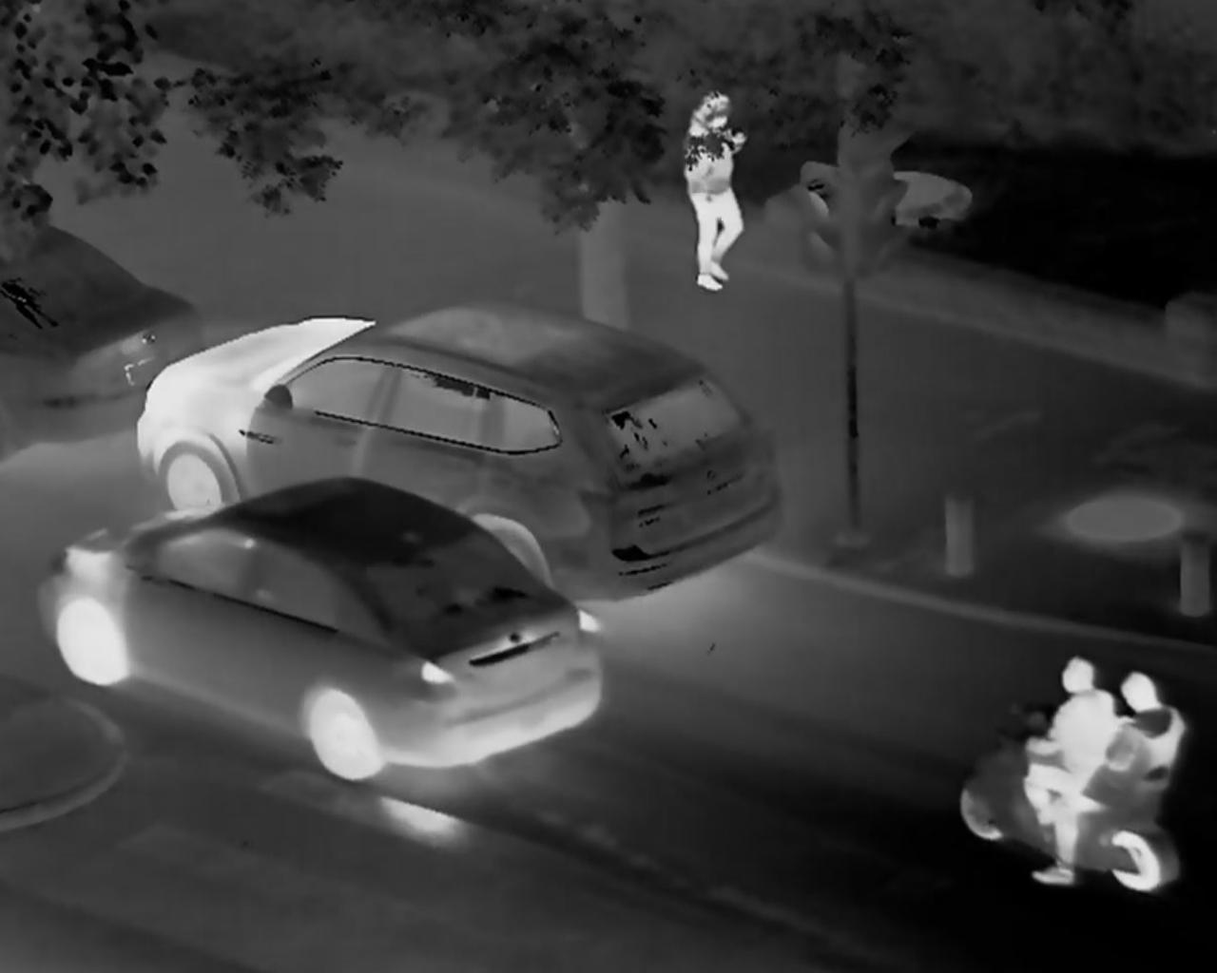person: (1039, 649, 1179, 915), (682, 97, 744, 290)
